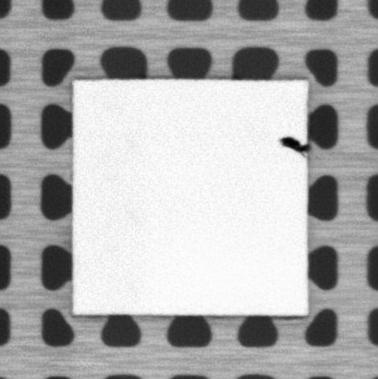DIE_INK: (278, 135, 308, 156)
